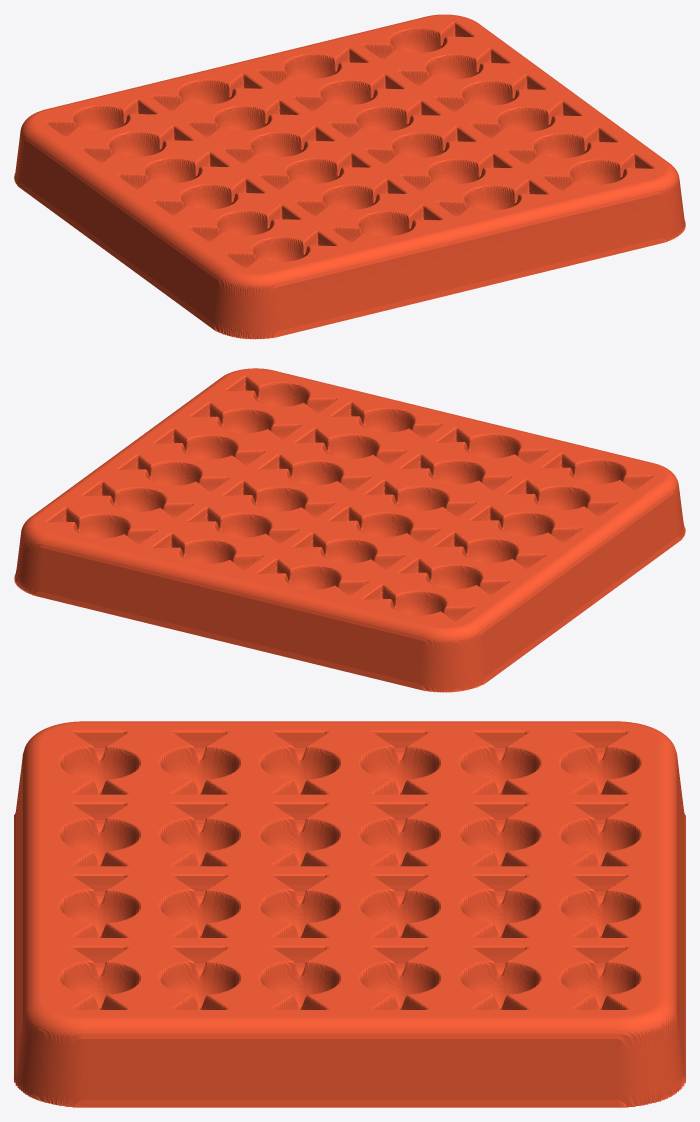
File: mold.glb
3 views of the same model, one above another, from view 1: azimuth 30°, elevation 25°; view 2: azimuth 150°, elevation 25°; view 3: azimuth 270°, elevation 25° (orthographic). The views are drawn at different scales.
Parts seen in each view (by area): view 1: geometry_0; view 2: geometry_0; view 3: geometry_0.
Part boxes in pixels (box(x1,y1,x2,y2)): geometry_0: box(14, 14, 685, 339); geometry_0: box(14, 368, 685, 692); geometry_0: box(14, 721, 685, 1107).
Bounding box in the file's own units: 0.098 × 0.0114 × 0.0877.
